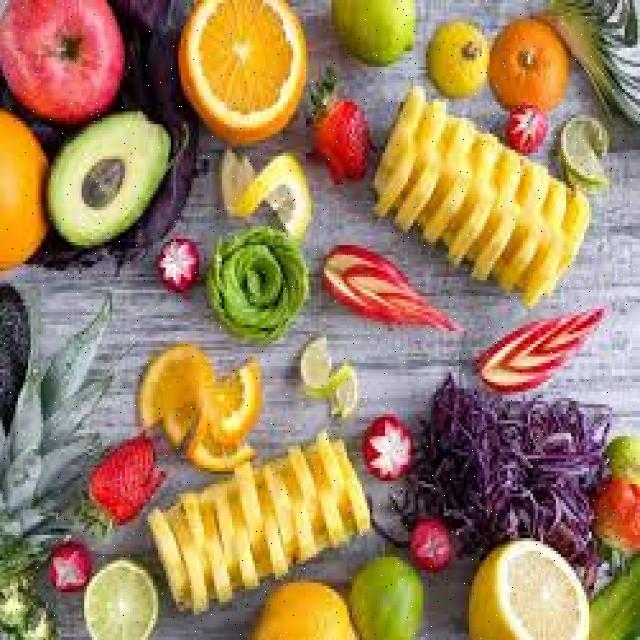Apple: (0, 0, 122, 114)
